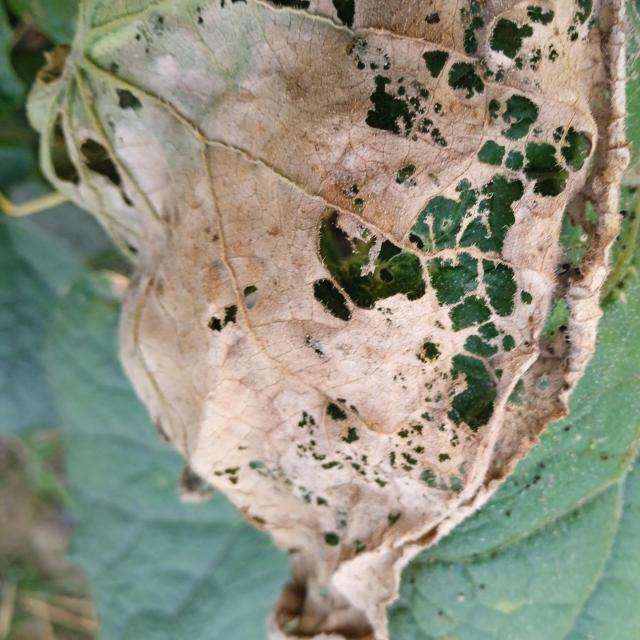cucumber_anthracnose: (31, 10, 621, 628)
